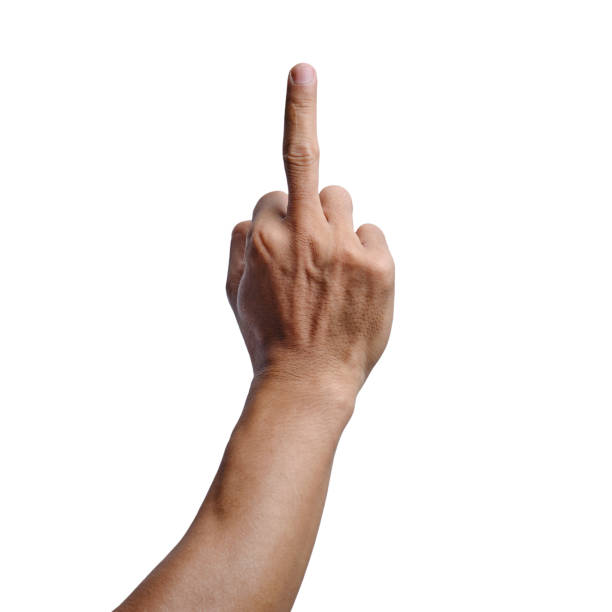insulting_gesture: (223, 60, 396, 414)
